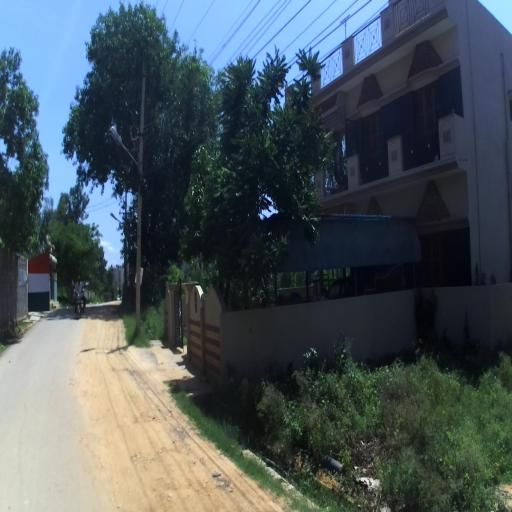street_light_0: (110, 126, 143, 188), (110, 212, 127, 236)
